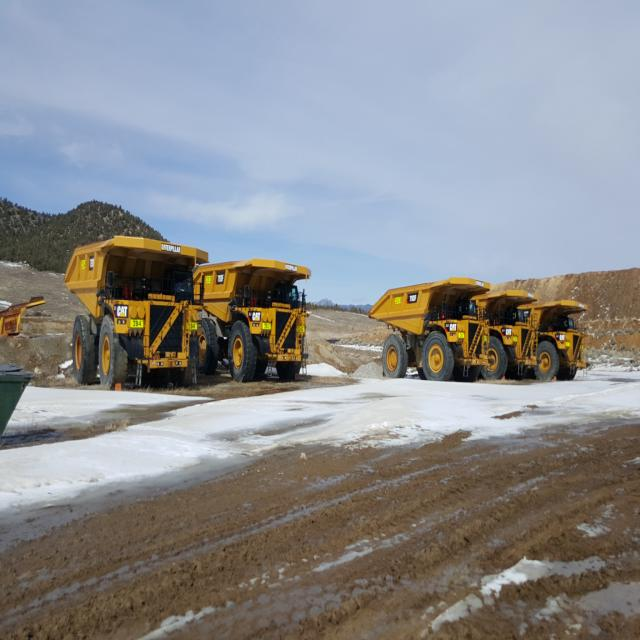dump_truck: (59, 228, 205, 395), (204, 244, 317, 385), (368, 271, 487, 391), (537, 273, 598, 394), (488, 274, 538, 391)
